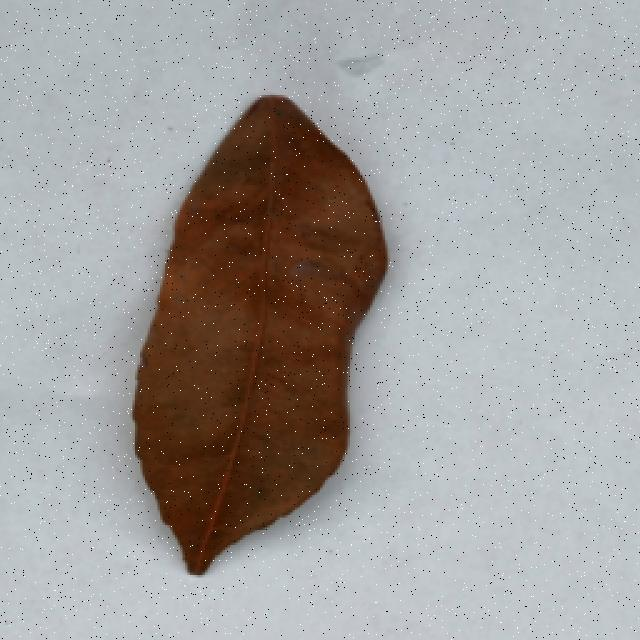greening: (130, 87, 394, 573)
